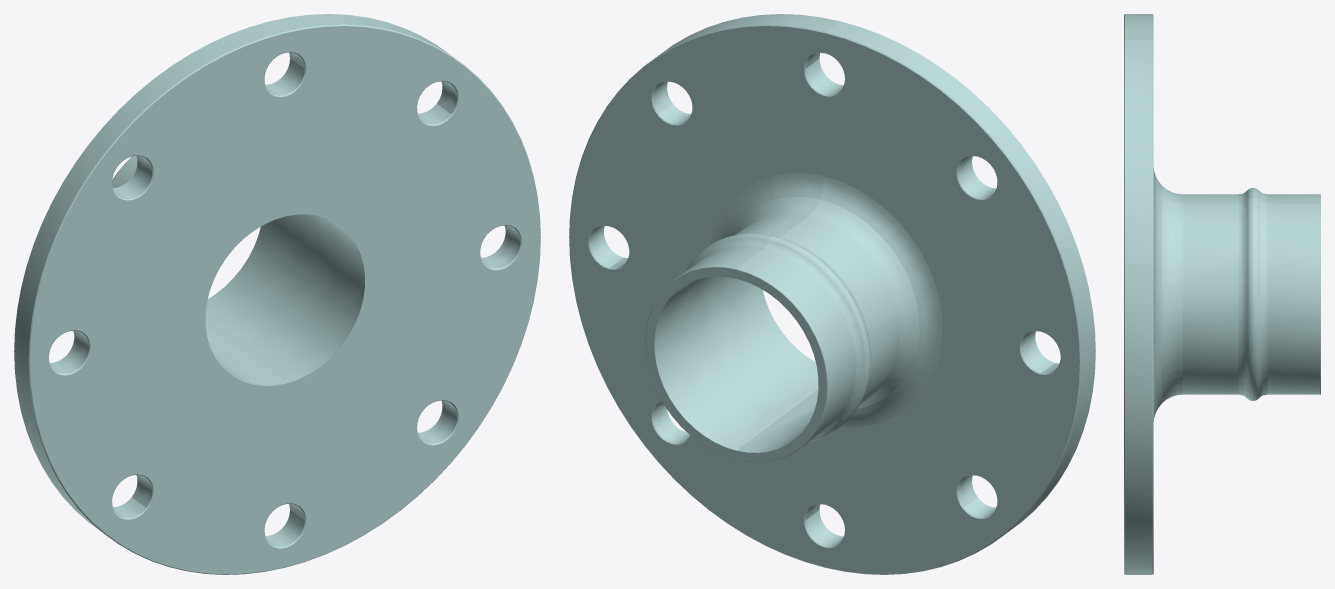
3 renders of one model, left to right at view 1: azimuth 30°, elevation 25°; view 2: azimuth 150°, elevation 25°; view 3: azimuth 270°, elevation 25°, orthographic. The views are drawn at different scales.
Bounding box in the file's own units: 286 × 286 × 100.
